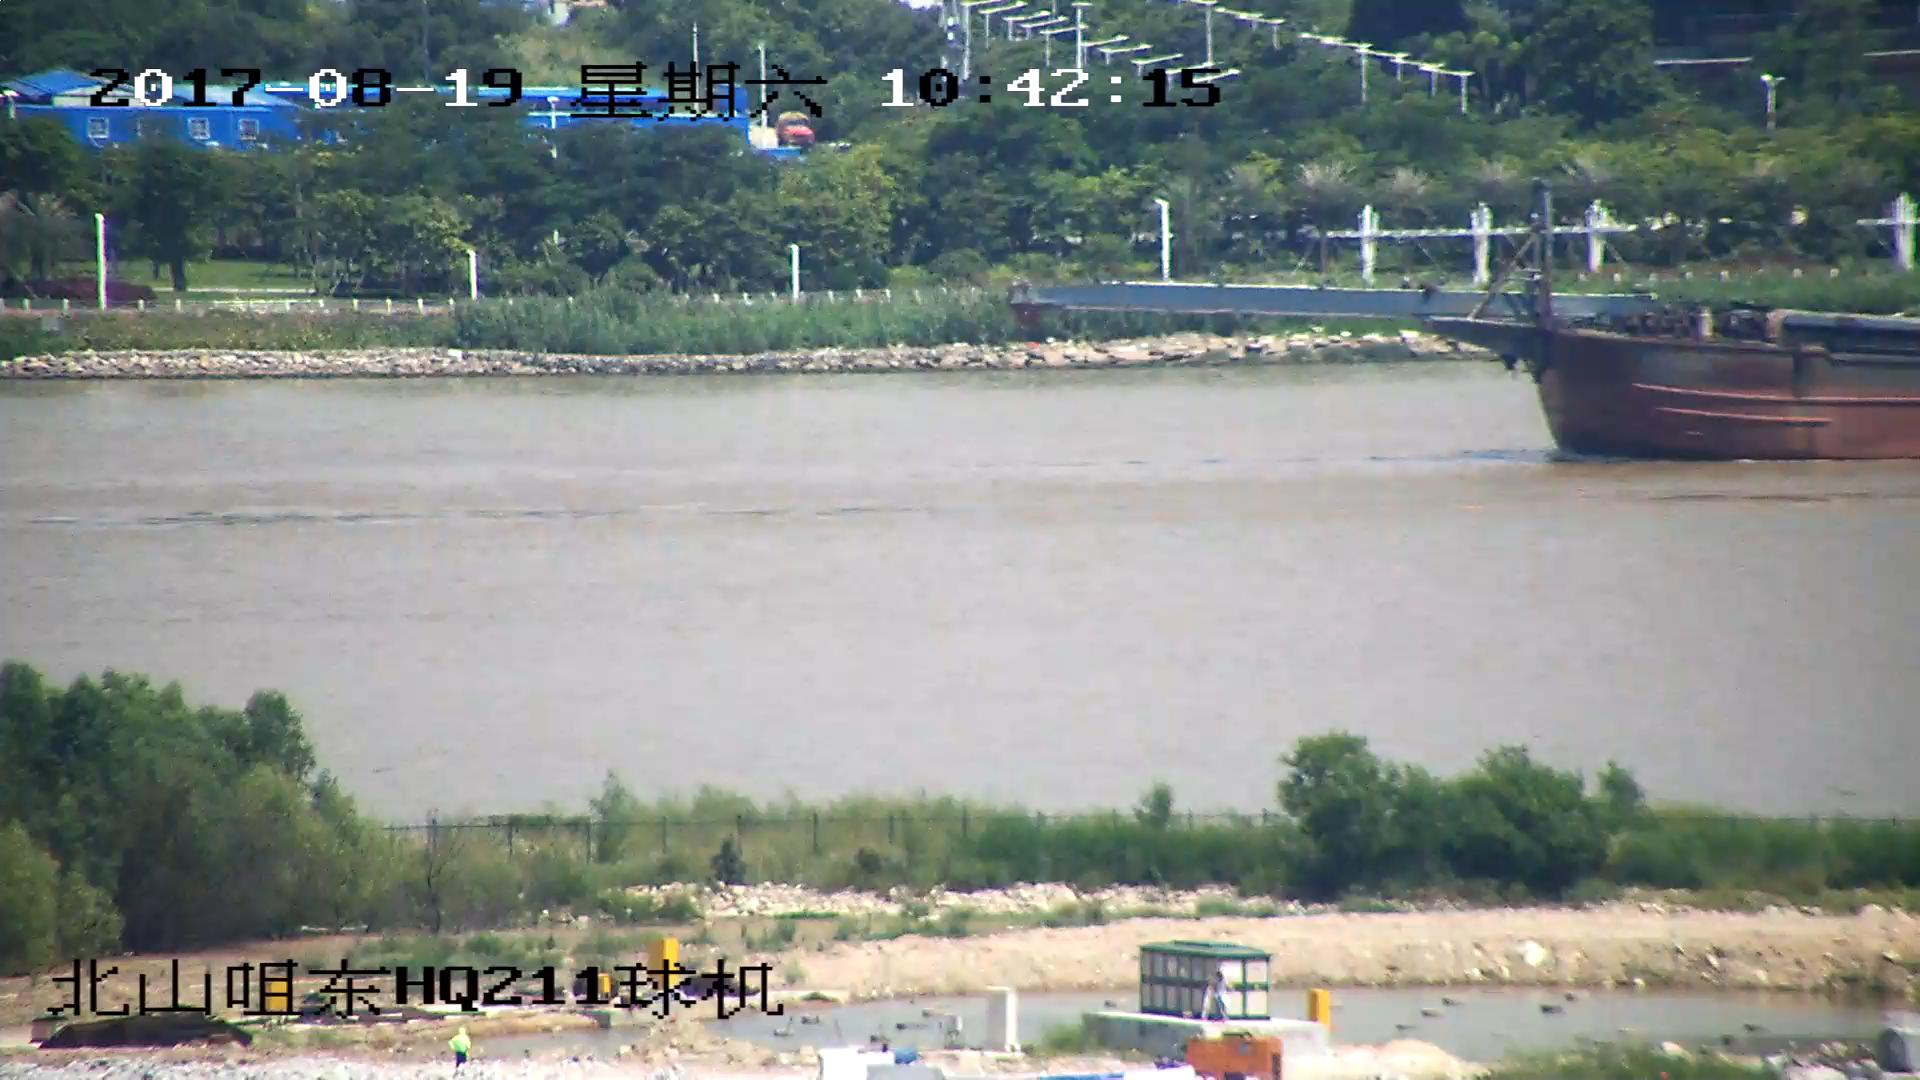bulk cargo carrier: (1015, 195, 1920, 459)
